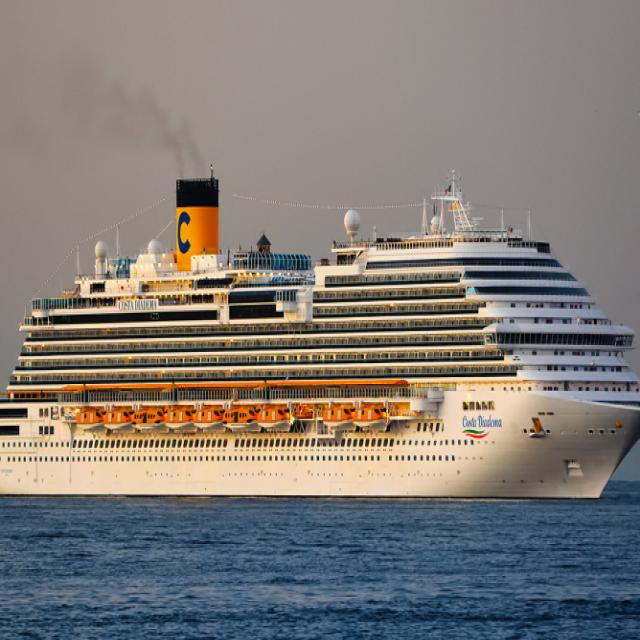cruises: (1, 153, 640, 502)
